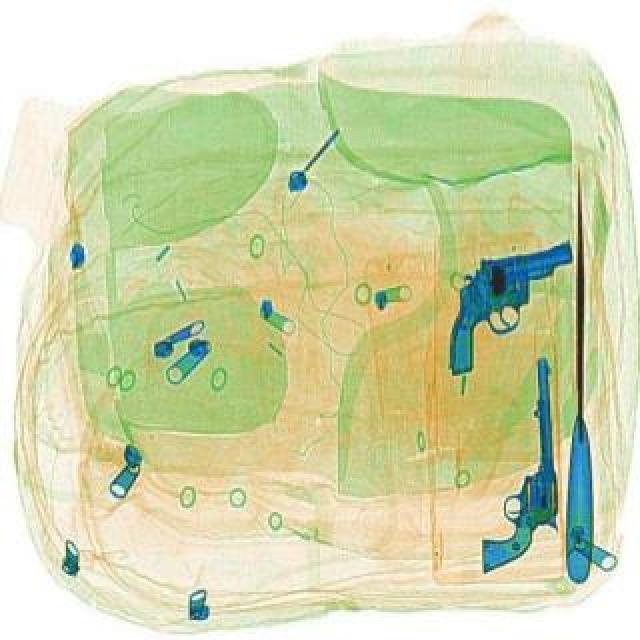gun: (420, 238, 598, 374), (464, 354, 564, 572)
knife: (564, 162, 592, 580)
